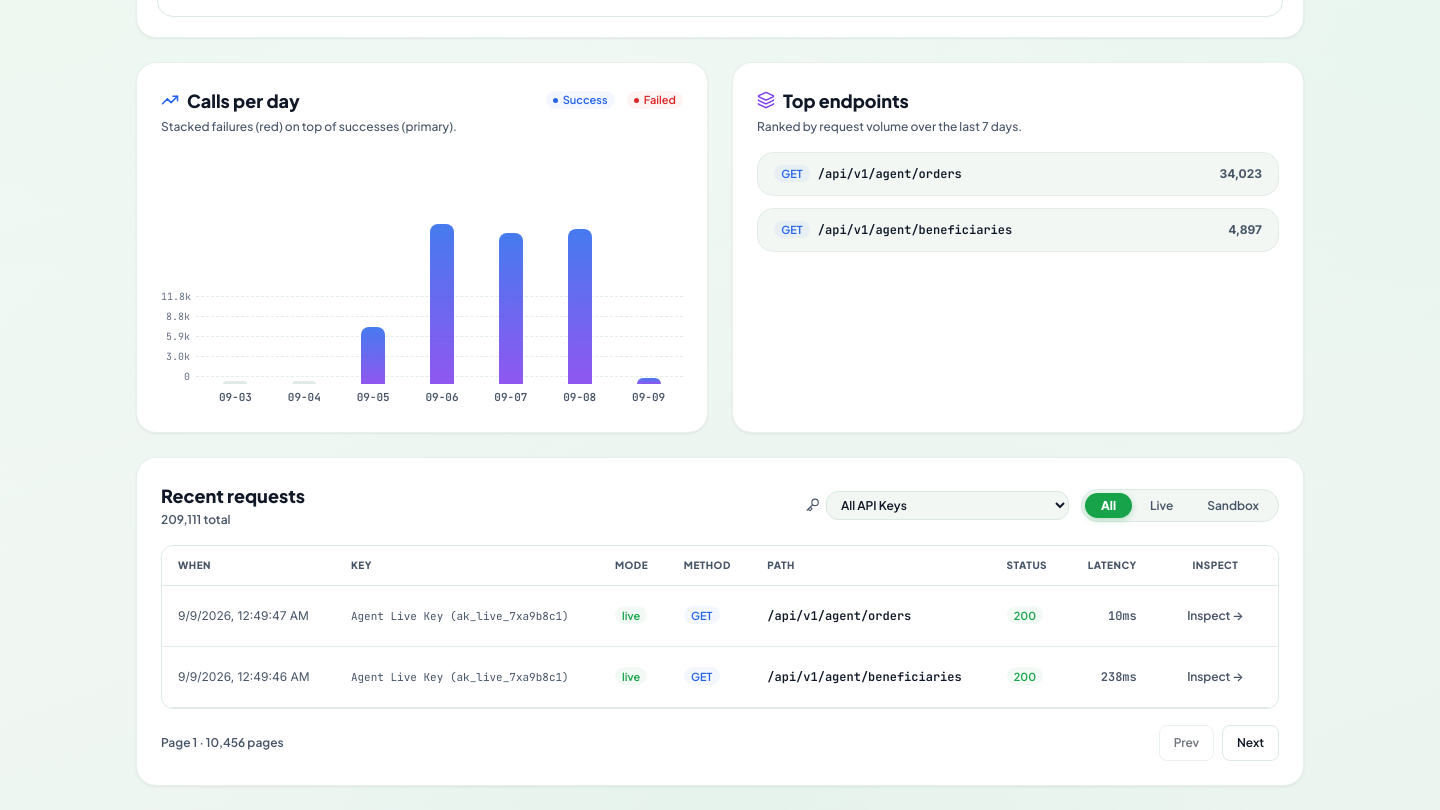
AgentApiUsagePage Suite › opens Request & Response Inspector modal upon clicking a request row
(page scrolled)
Expected: the text "/api/v1/agent/orders" is shown, [818,164,962,182]
Note: Click on inspect button
Click the button "Inspect →" in the row of "9/9/2026, 12:49:47 AM" at (1215, 616), box [1172,598,1259,634]
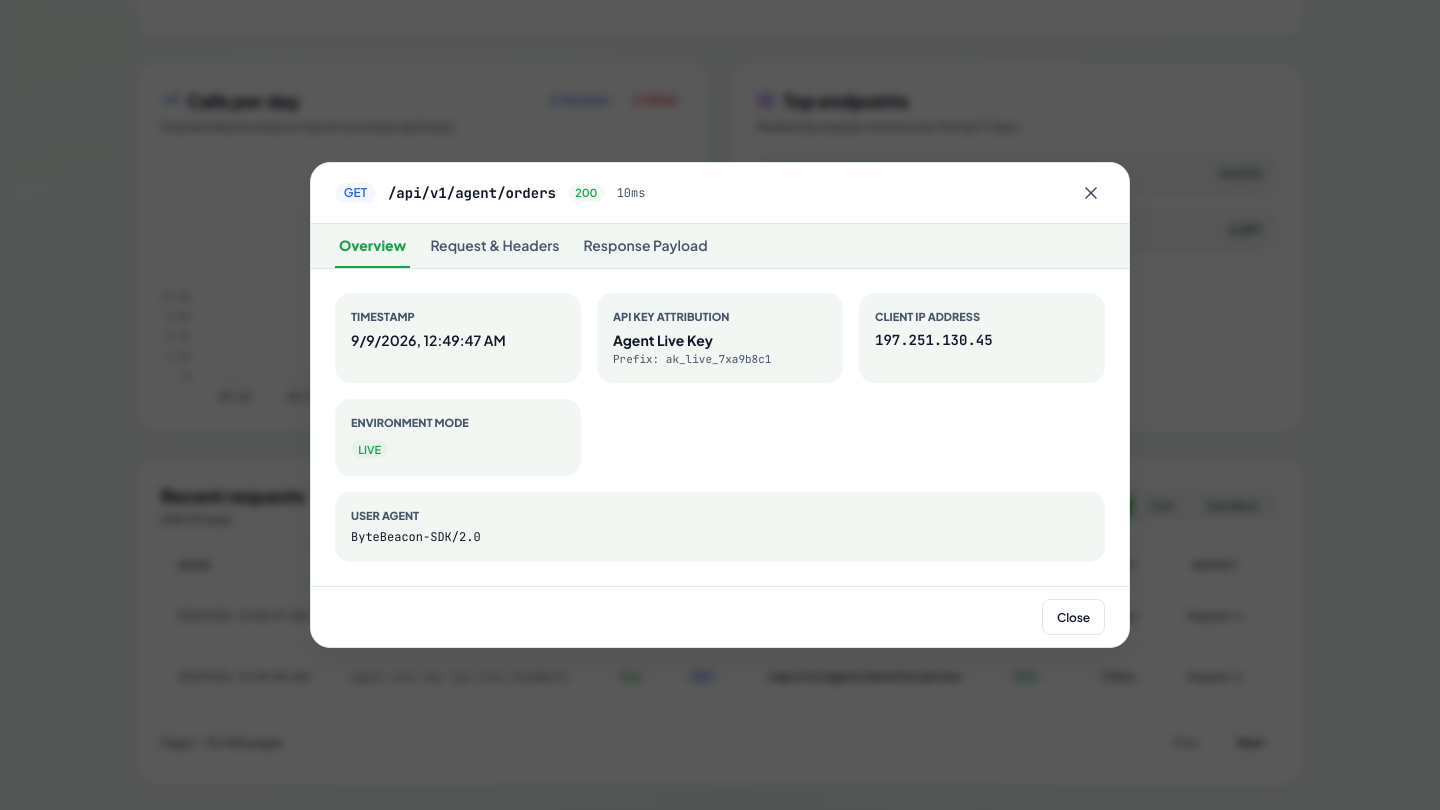
Result: the button "Overview" is shown at [335,224,410,268]
Result: the button "Request & Headers" is shown at [426,224,564,268]
Result: the button "Response Payload" is shown
Note: Switch to Response tab
Click the button "Response Payload" at (646, 246), box [580,224,712,268]
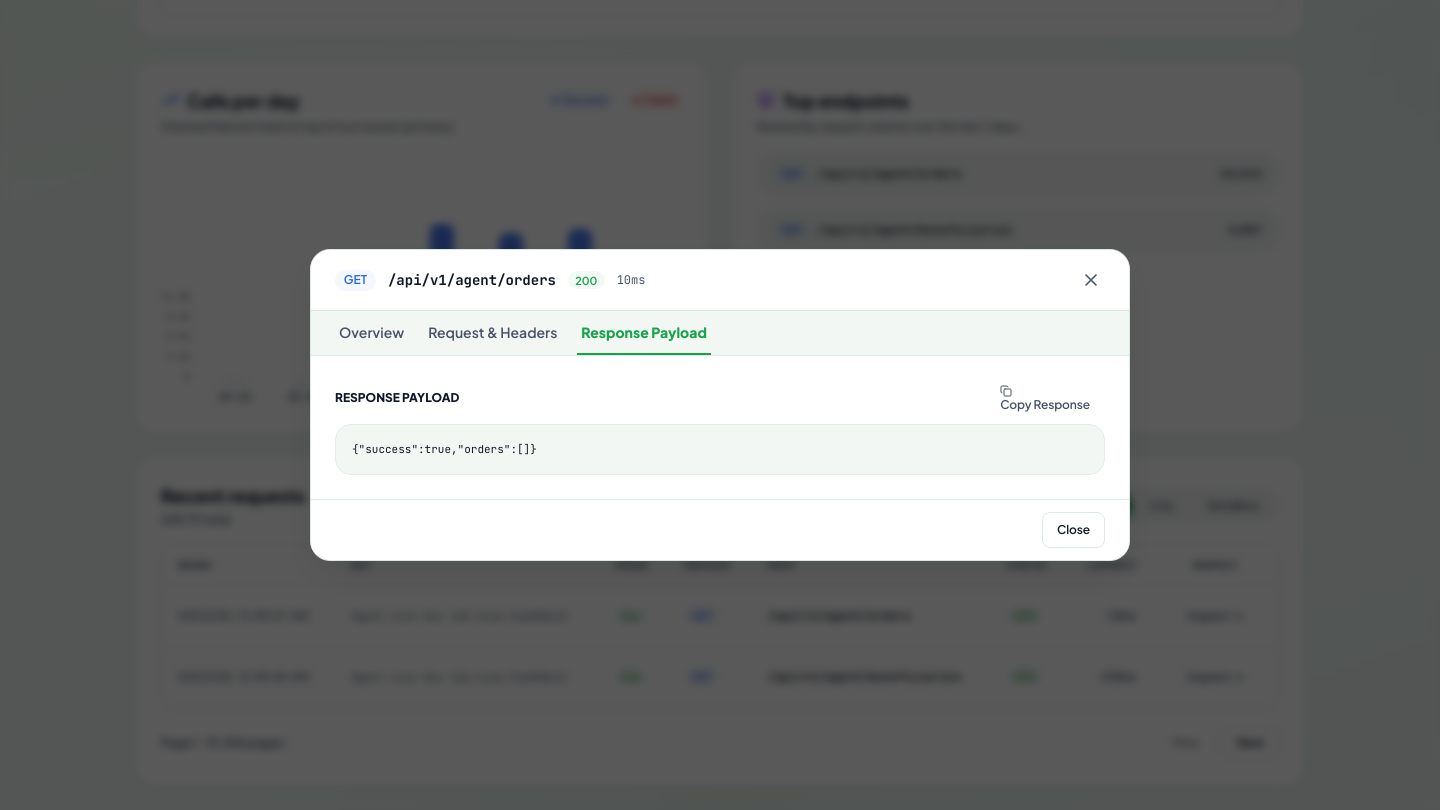
Result: the text "{\"success\":true,\"orders\":[]}" is shown at [335,424,1105,475]
Note: Close modal
Click the button "Close" at (1074, 530), box [1042,512,1105,548]
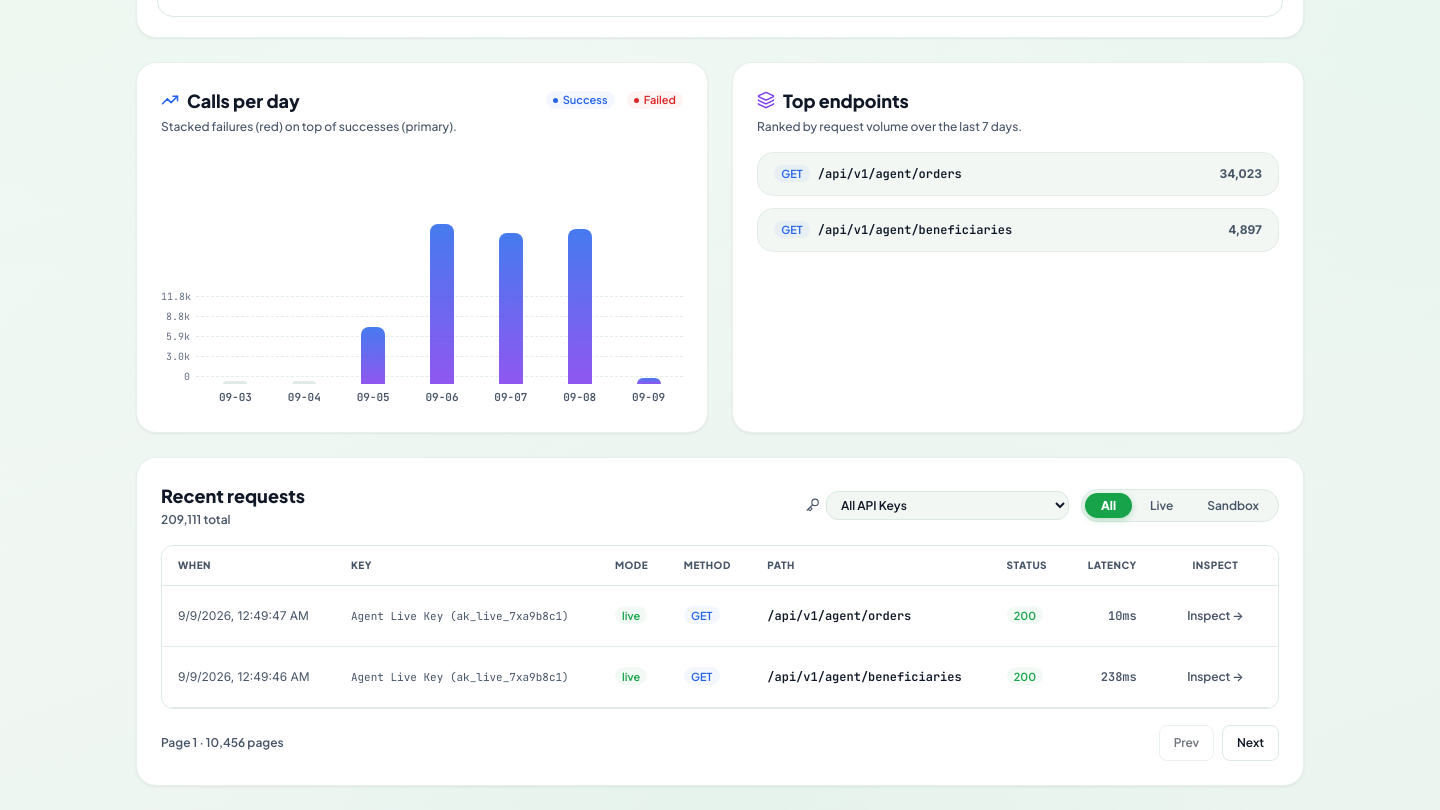
Result: the button "Response Payload" is gone
